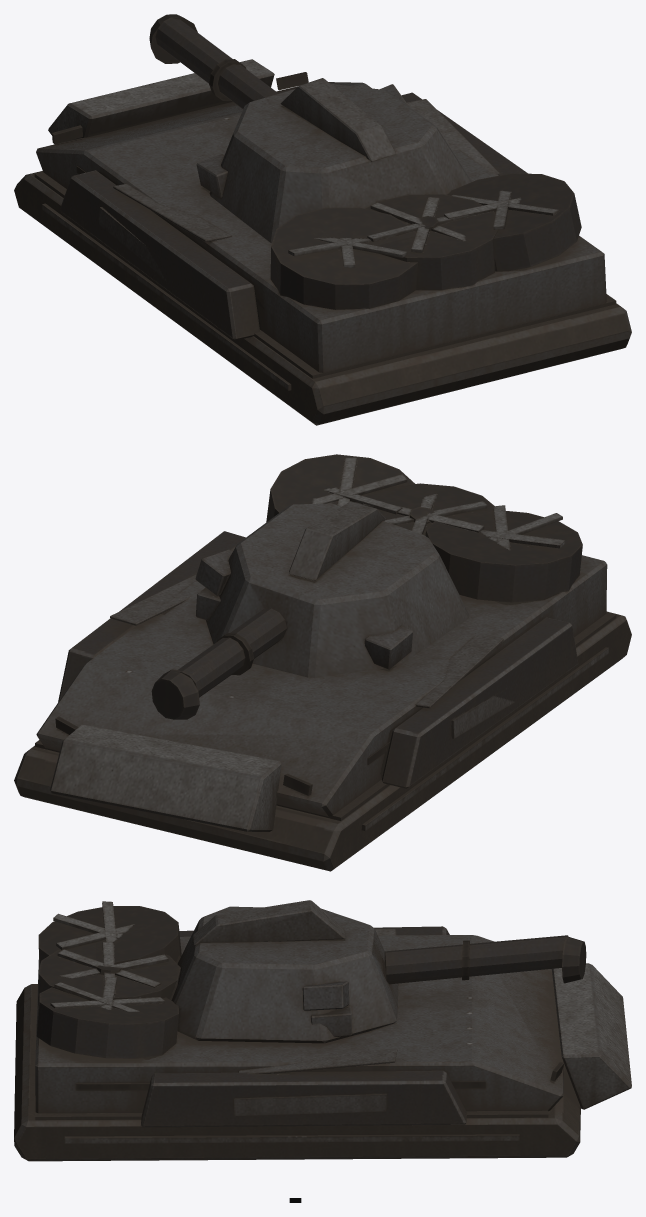
File: chs_glaive_wreck.fbx
3 views of the same model, one above another, from view 1: azimuth 30°, elevation 25°; view 2: azimuth 150°, elevation 25°; view 3: azimuth 270°, elevation 25° (orthographic). The views are drawn at different scales.
Parts seen in each view (by area): view 1: base_bar, turret_bar, barrel_bar, fan2_bar, fan3_bar, fan1_bar; view 2: base_bar, turret_bar, barrel_bar, fan3_bar, fan2_bar, fan1_bar; view 3: base_bar, turret_bar, barrel_bar, fan2_bar, fan3_bar, fan1_bar.
Boxes of the visible parts, left/top/right/bottom form: base_bar: left=14, top=59, right=631, bottom=425; turret_bar: left=196, top=78, right=471, bottom=243; barrel_bar: left=149, top=14, right=278, bottom=109; fan2_bar: left=367, top=197, right=470, bottom=252; fan3_bar: left=444, top=191, right=558, bottom=229; fan1_bar: left=288, top=238, right=407, bottom=267; base_bar: left=14, top=454, right=631, bottom=871; turret_bar: left=195, top=501, right=469, bottom=677; barrel_bar: left=151, top=608, right=286, bottom=719; fan3_bar: left=314, top=457, right=407, bottom=514; fan2_bar: left=362, top=493, right=487, bottom=534; fan1_bar: left=480, top=505, right=565, bottom=549; base_bar: left=14, top=906, right=631, bottom=1161; turret_bar: left=171, top=900, right=398, bottom=1043; barrel_bar: left=384, top=935, right=586, bottom=984; fan2_bar: left=57, top=942, right=168, bottom=994; fan3_bar: left=50, top=977, right=164, bottom=1011; fan1_bar: left=53, top=901, right=133, bottom=950.
Size of the model in its own units: 655 by 559 by 1060.
Materials: 2 (2 with a texture image).
